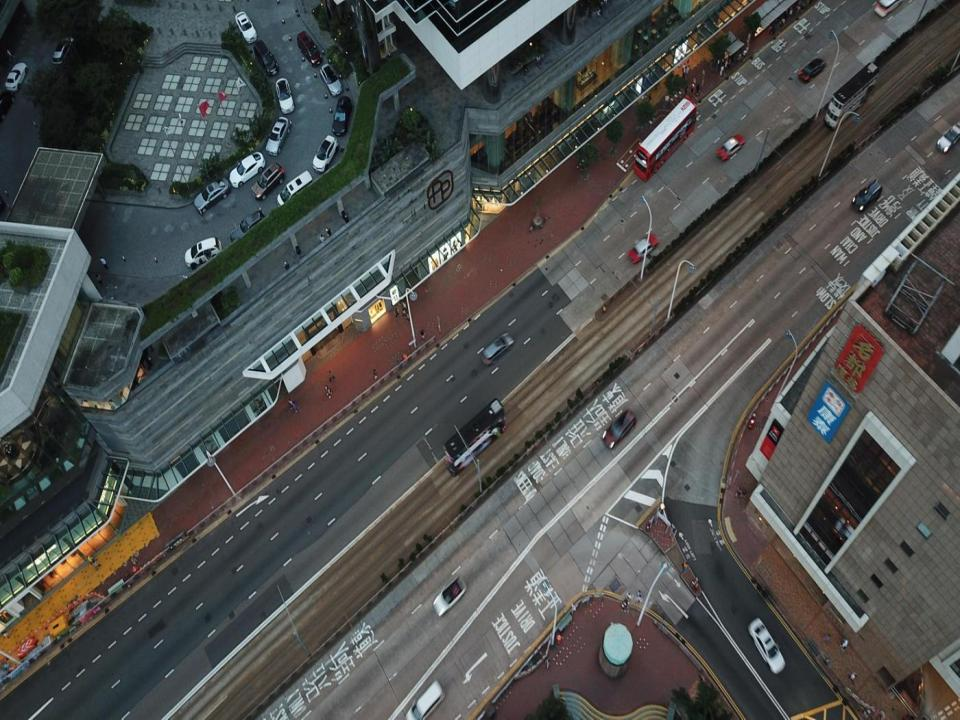bus: (634, 95, 696, 181), (444, 397, 505, 474), (825, 62, 884, 126)
car: (745, 615, 786, 674), (601, 410, 637, 450), (433, 576, 465, 616), (194, 178, 229, 212), (227, 152, 264, 184), (249, 164, 284, 197), (229, 209, 265, 240), (483, 333, 514, 369), (184, 236, 221, 266), (627, 234, 658, 265), (266, 117, 291, 153), (716, 133, 745, 164), (312, 135, 336, 172), (234, 9, 258, 43), (798, 56, 826, 84), (936, 119, 959, 153), (333, 93, 351, 134), (274, 76, 294, 112), (51, 36, 75, 66), (319, 62, 342, 93), (3, 62, 26, 92), (874, 0, 899, 18)
van: (404, 679, 446, 719), (278, 166, 311, 210), (850, 177, 882, 214), (250, 36, 279, 76), (294, 30, 323, 67)
